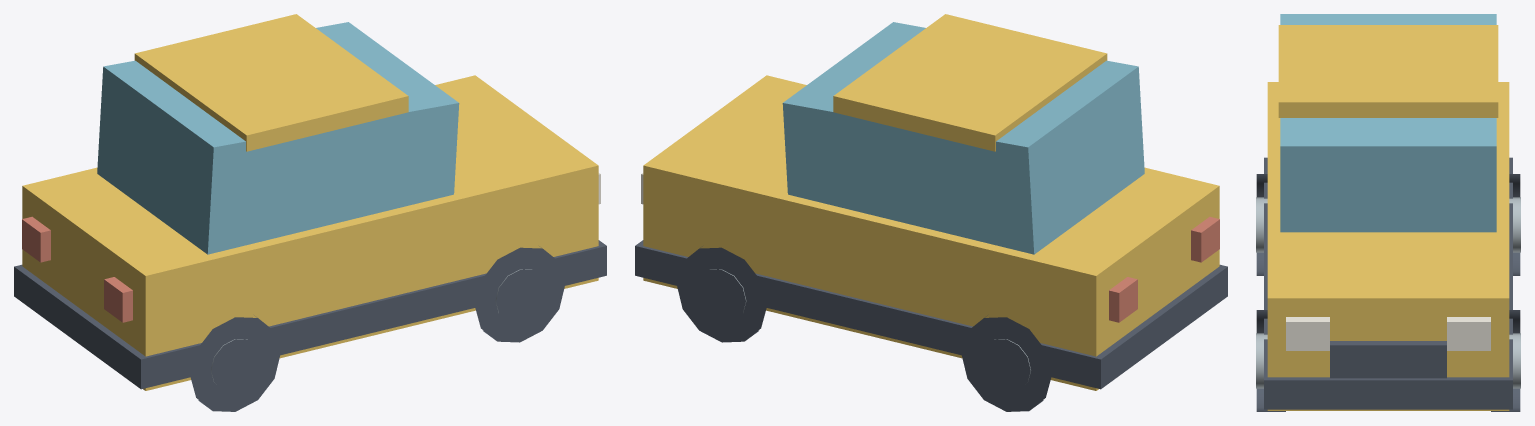
The model's file is car.glb.
The picture shows the model from 3 angles, left to right: view 1: azimuth 30°, elevation 25°; view 2: azimuth 150°, elevation 25°; view 3: azimuth 270°, elevation 25°; orthographic projection. The views are drawn at different scales.
Parts seen in each view (by area): view 1: body, cabin, roof, bumper, wheel (×2), taillight (×2); view 2: body, cabin, roof, bumper, wheel (×2), taillight (×2); view 3: body, cabin, roof, bumper, grille, headlight (×2), hubcap (×4), wheel (×4).
Part boxes in pixels (x1,y1,x2,y2): body: (22,75,598,390); cabin: (97,22,459,254); roof: (134,14,408,151); bumper: (14,240,606,389); wheel (×2): (190,246,565,411); taillight (×2): (22,216,132,322); body: (643,75,1219,390); cabin: (782,22,1144,254); roof: (833,14,1107,151); bumper: (635,240,1227,389); wheel (×2): (676,246,1051,411); taillight (×2): (1109,216,1219,322); body: (1267,82,1509,410); cabin: (1280,14,1496,232); roof: (1278,25,1498,117); bumper: (1264,157,1512,409); grille: (1330,341,1446,378); headlight (×2): (1286,317,1490,350); hubcap (×4): (1256,197,1520,388); wheel (×4): (1256,174,1520,411).
Size of the model in its own units: 3.68 by 1.94 by 1.81.
